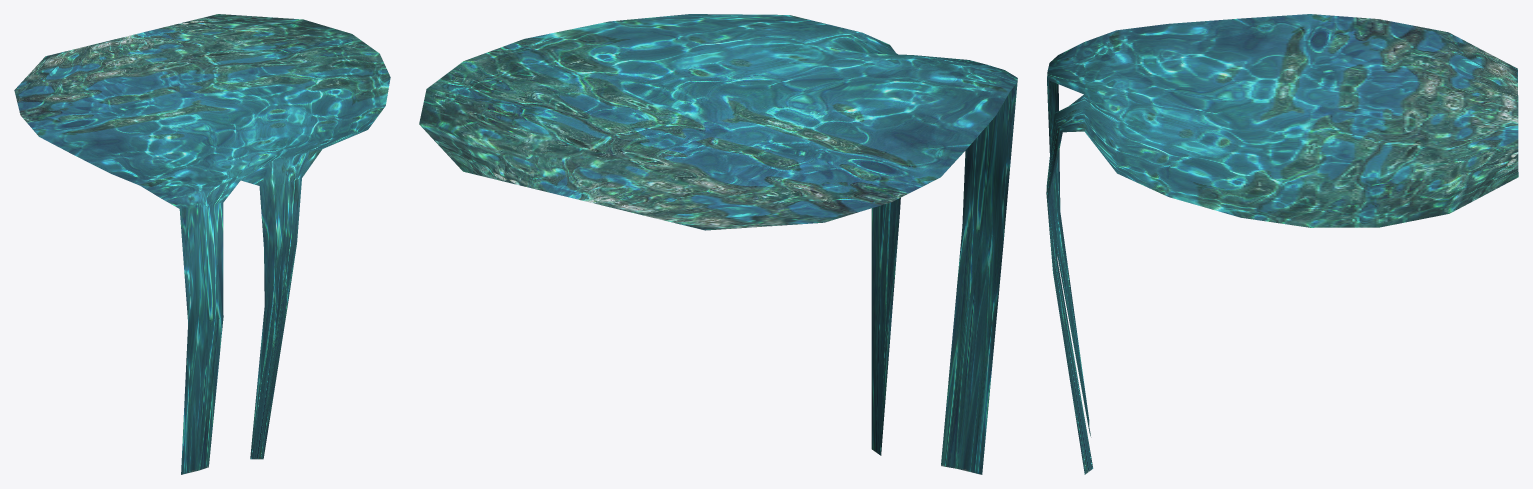
File: Mine_shanti01shui2.FBX
3 views of the same model, side by side, from view 1: azimuth 30°, elevation 25°; view 2: azimuth 150°, elevation 25°; view 3: azimuth 270°, elevation 25° (orthographic). The views are drawn at different scales.
Visible parts, largest first — view 1: Plane004; view 2: Plane004; view 3: Plane004.
Part boxes in pixels (box(x1,y1,x2,y2)): Plane004: box(14, 14, 390, 474); Plane004: box(419, 14, 1017, 474); Plane004: box(1046, 14, 1518, 474).
Bounding box in the file's own units: 4842 × 4015 × 4517.
1 material, 1 textured.
